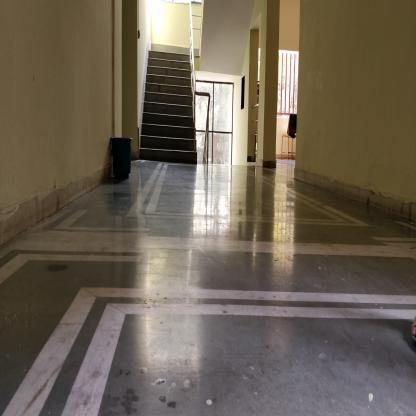stairs: (151, 49, 190, 167)
